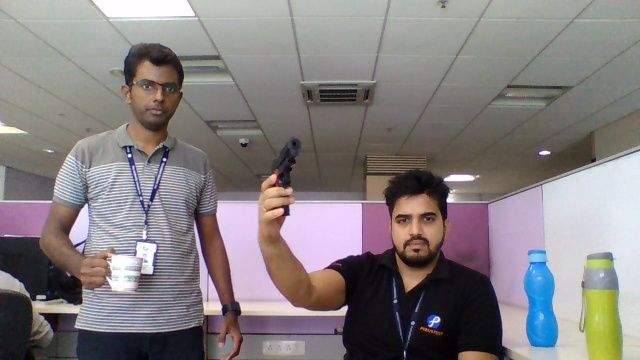gun: (278, 136, 302, 186)
